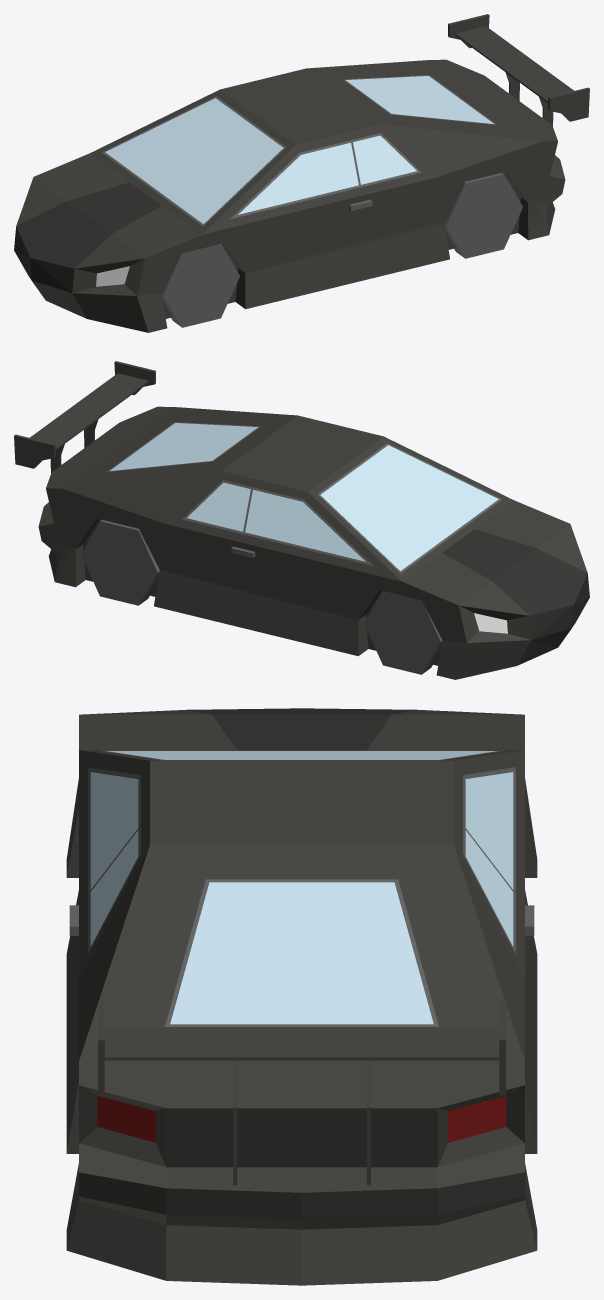
The model's file is Car_2_2.fbx.
3 views of the same model, one above another, from view 1: azimuth 30°, elevation 25°; view 2: azimuth 150°, elevation 25°; view 3: azimuth 270°, elevation 25° (orthographic). The views are drawn at different scales.
Parts seen in each view (by area): view 1: Car_2_2; view 2: Car_2_2; view 3: Car_2_2.
Boxes of the visible parts, x1,y1,x2,y2 form: Car_2_2: (14,14,589,332); Car_2_2: (14,361,589,679); Car_2_2: (66,708,537,1285).
Bounding box in the file's own units: 7.41 × 1.94 × 2.97.
Materials: 1 (1 with a texture image).
